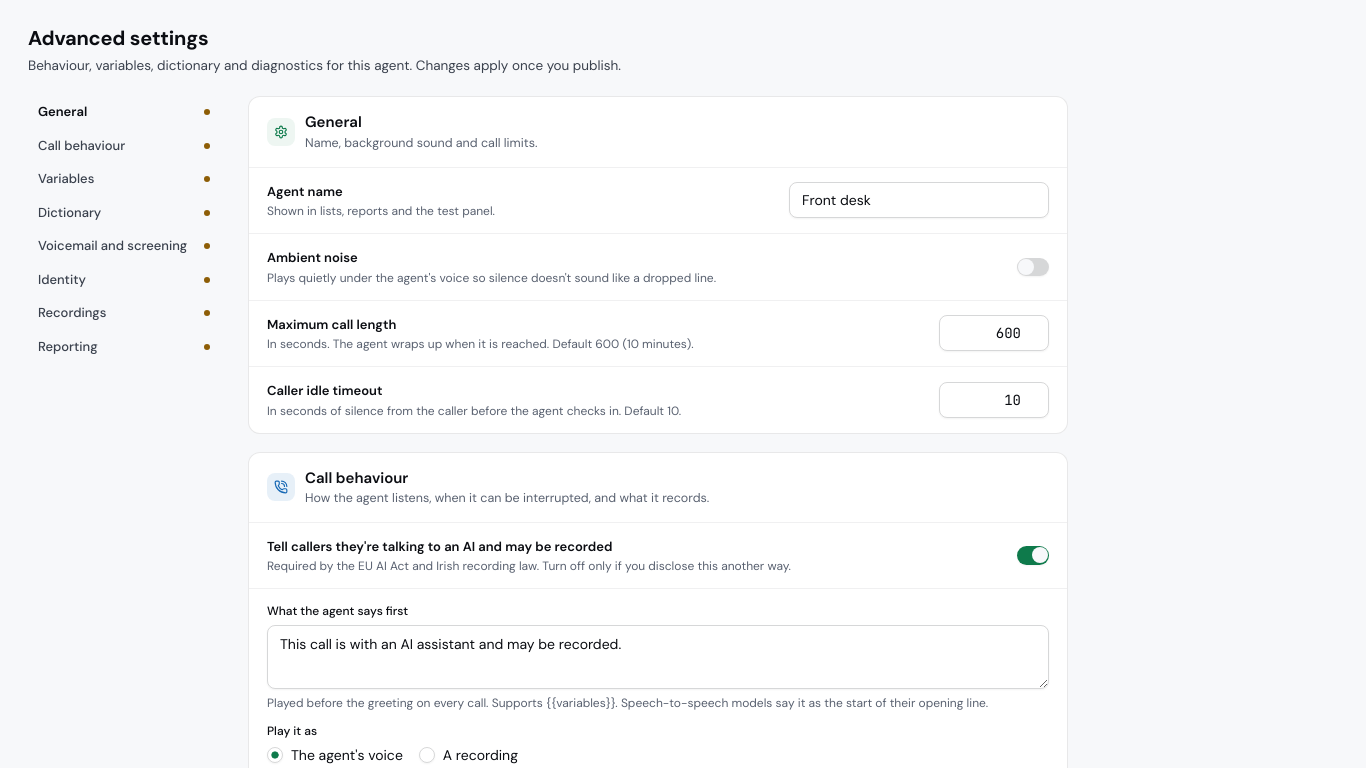
Advanced settings › has one save bar instead of a Save button per card
The image size is (1366, 768).
Expected: the heading "Advanced settings" is shown, [28,25,208,51]
Expected: the button "save" is not shown
Replace the text in the field labelled "Agent name" with "Reception" at (919, 200), box [789,182,1049,218]
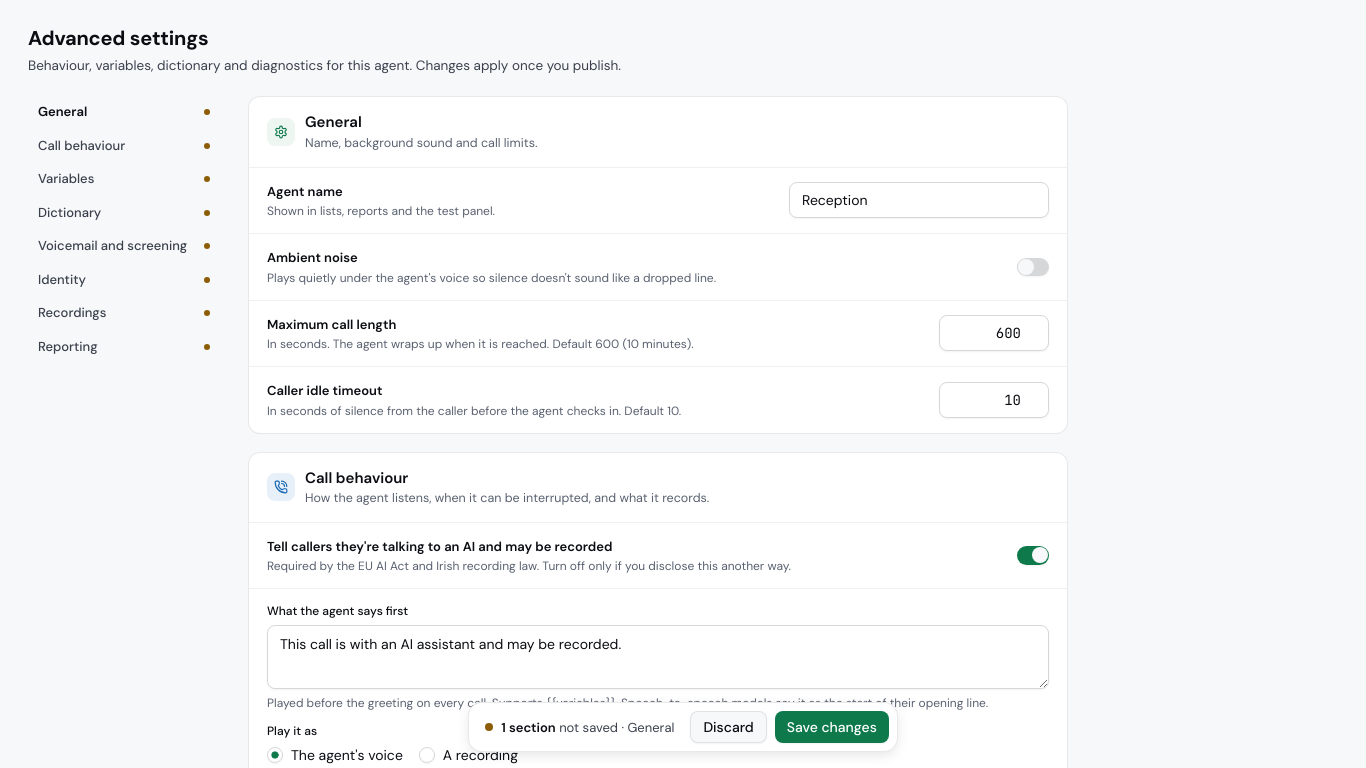
Expected: the link "General" is shown, [28,96,220,128]
Expected: the button "Save changes" is shown, [775,711,889,743]
